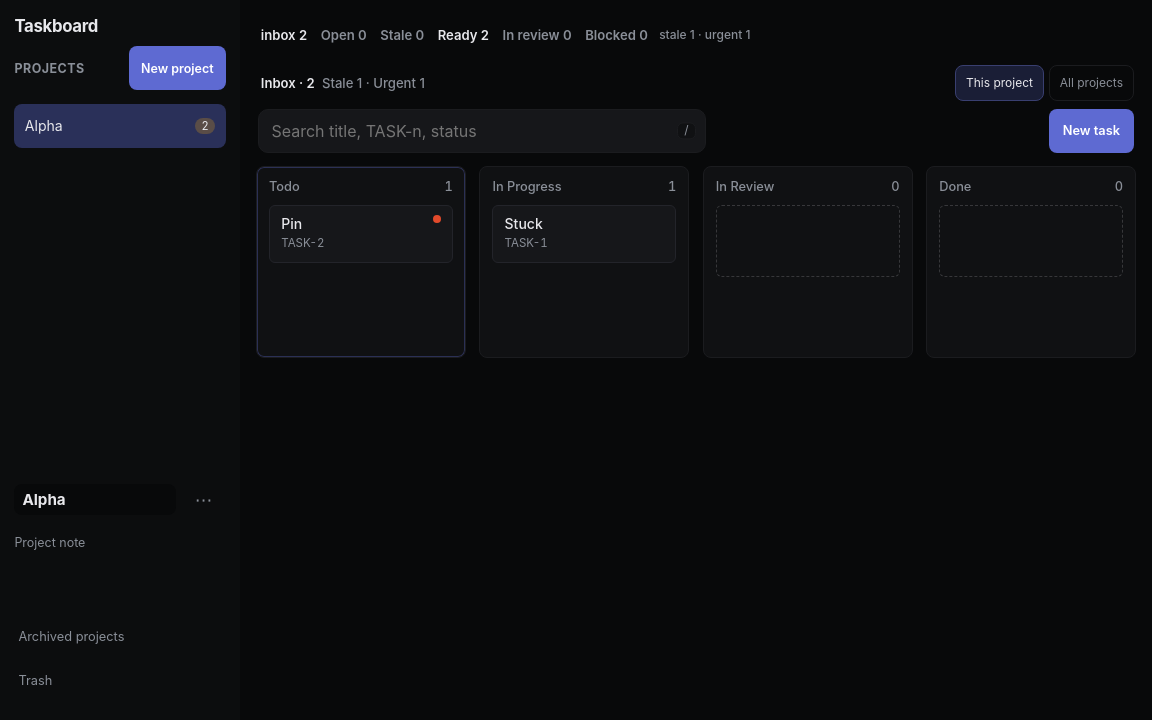
Test: InboxStrip › lists stale running cards between failed and urgent
expect the text "Stale 1 · Urgent 1" is shown: met, box [322, 75, 425, 91]
Click the button "Inbox · 2 Stale 1 · Urgent 1" at (343, 83), box [258, 61, 427, 105]
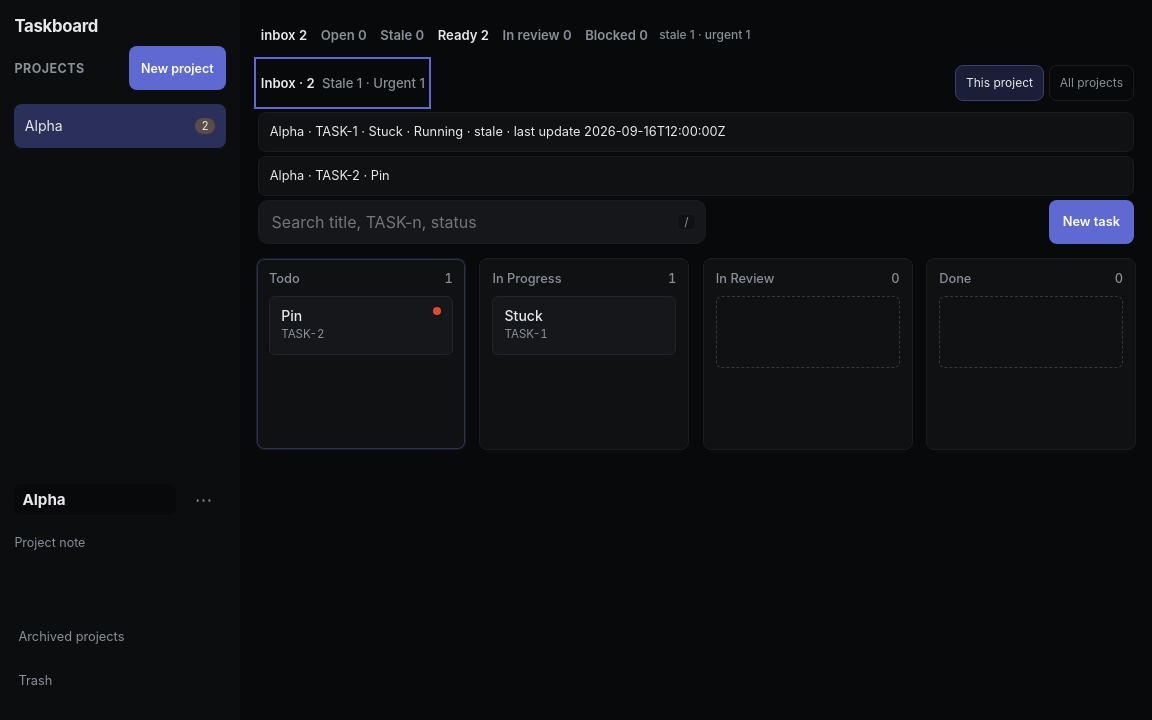
expect the button "stale · last update" is shown: met, box [258, 112, 1134, 152]
